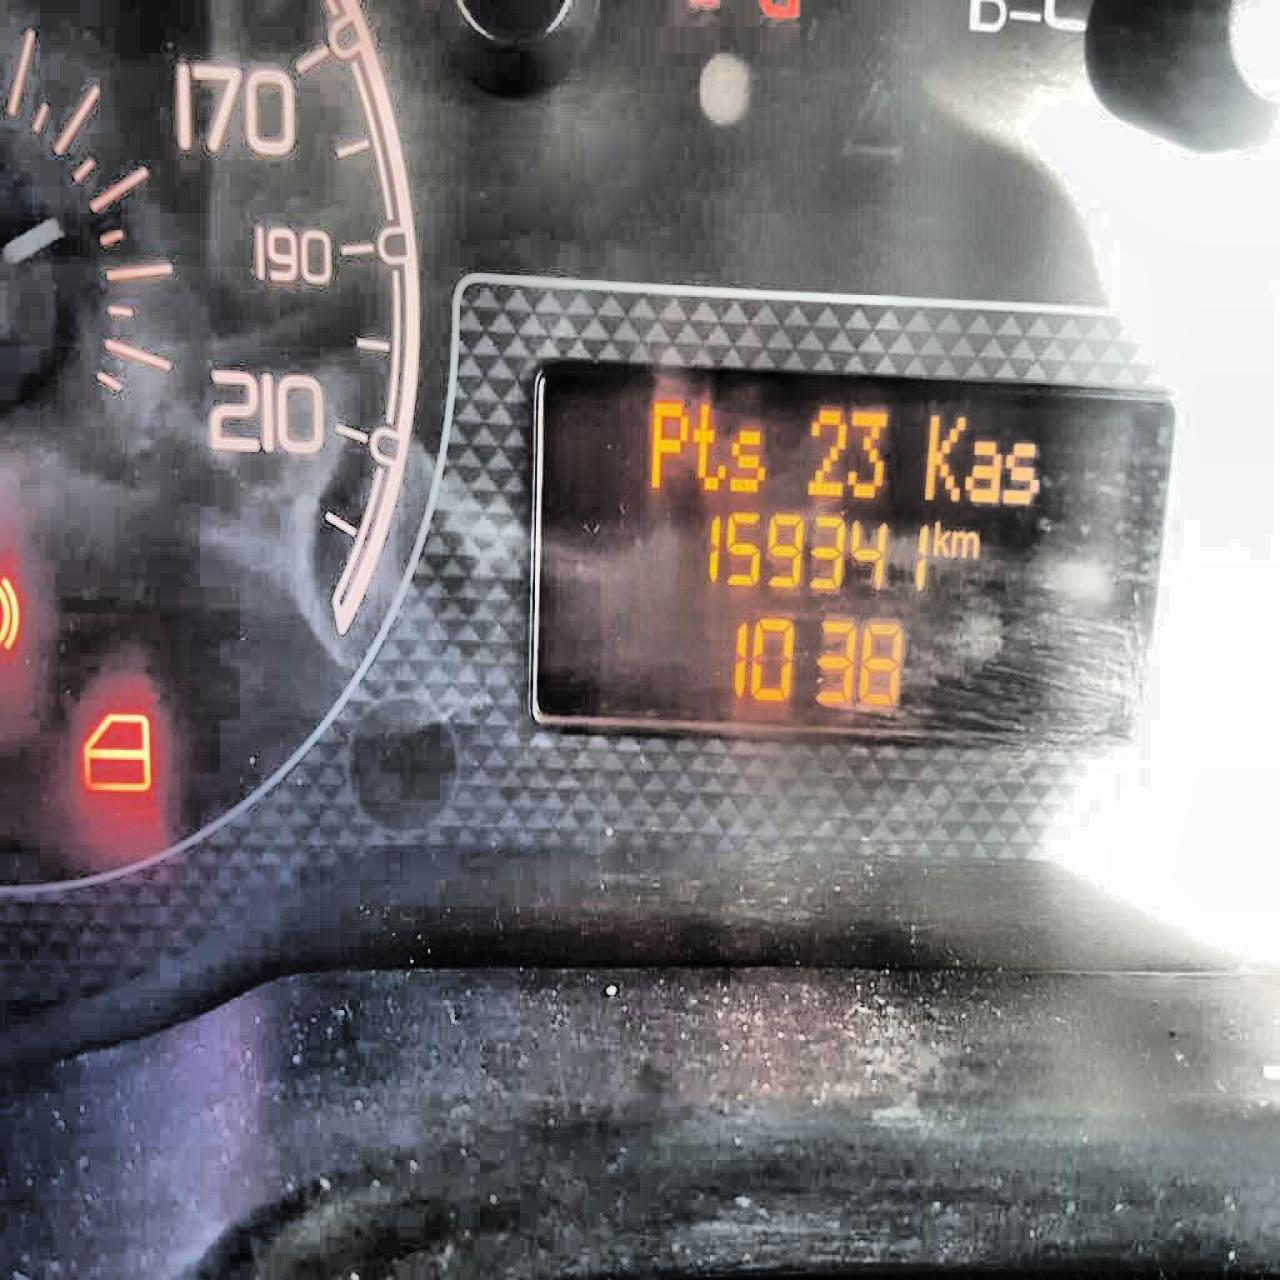0: (749, 617, 794, 700)
1: (731, 621, 747, 699), (912, 523, 927, 592), (706, 515, 720, 584)
2: (805, 407, 846, 497)
3: (812, 617, 857, 706), (845, 408, 887, 497), (808, 515, 845, 590)
4: (847, 518, 887, 590)
5: (726, 512, 760, 585)
8: (857, 620, 903, 704)
9: (765, 511, 804, 586)
X: (922, 411, 967, 502), (647, 400, 688, 489), (690, 400, 726, 490), (962, 440, 1001, 503), (727, 427, 764, 491), (1001, 440, 1039, 503), (951, 529, 978, 558), (931, 518, 948, 558)
odometer: (525, 353, 1183, 750)
